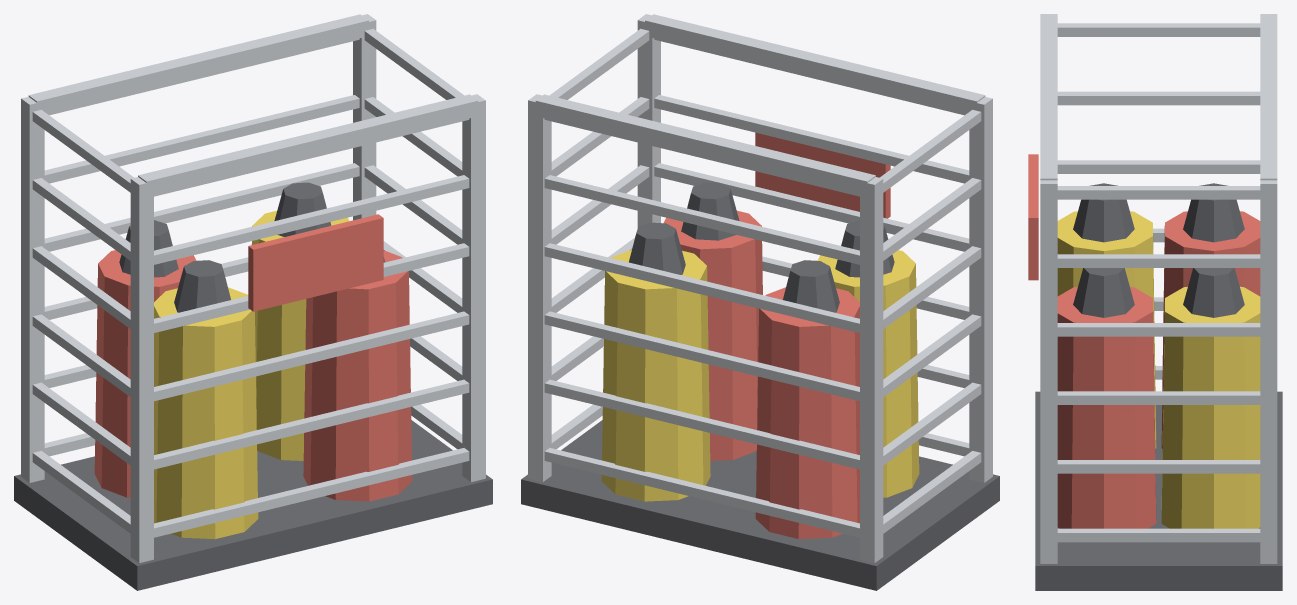
File: street-food-market-and-food-trucks-gas-bottle-cage-99338f3f__34308.glb
The picture shows the model from 3 angles, left to right: view 1: azimuth 30°, elevation 25°; view 2: azimuth 150°, elevation 25°; view 3: azimuth 270°, elevation 25°; orthographic projection.
Parts seen in each view (by area): view 1: gas-bottle-cage-steel, gas-bottle-cage-scarlet, gas-bottle-cage-charcoal, gas-bottle-cage-canary; view 2: gas-bottle-cage-steel, gas-bottle-cage-scarlet, gas-bottle-cage-charcoal, gas-bottle-cage-canary; view 3: gas-bottle-cage-steel, gas-bottle-cage-charcoal, gas-bottle-cage-scarlet, gas-bottle-cage-canary.
Part boxes in pixels (x1,y1,x2,y2): gas-bottle-cage-steel: [21, 14, 485, 562]; gas-bottle-cage-scarlet: [94, 214, 412, 501]; gas-bottle-cage-charcoal: [14, 182, 492, 590]; gas-bottle-cage-canary: [154, 210, 349, 539]; gas-bottle-cage-steel: [528, 14, 992, 562]; gas-bottle-cage-scarlet: [663, 132, 890, 538]; gas-bottle-cage-charcoal: [521, 182, 999, 590]; gas-bottle-cage-canary: [601, 249, 919, 501]; gas-bottle-cage-steel: [1040, 14, 1277, 563]; gas-bottle-cage-charcoal: [1035, 183, 1282, 590]; gas-bottle-cage-scarlet: [1028, 154, 1260, 528]; gas-bottle-cage-canary: [1057, 211, 1260, 528].
Size of the model in its own units: 1.2 by 1.31 by 0.74.
